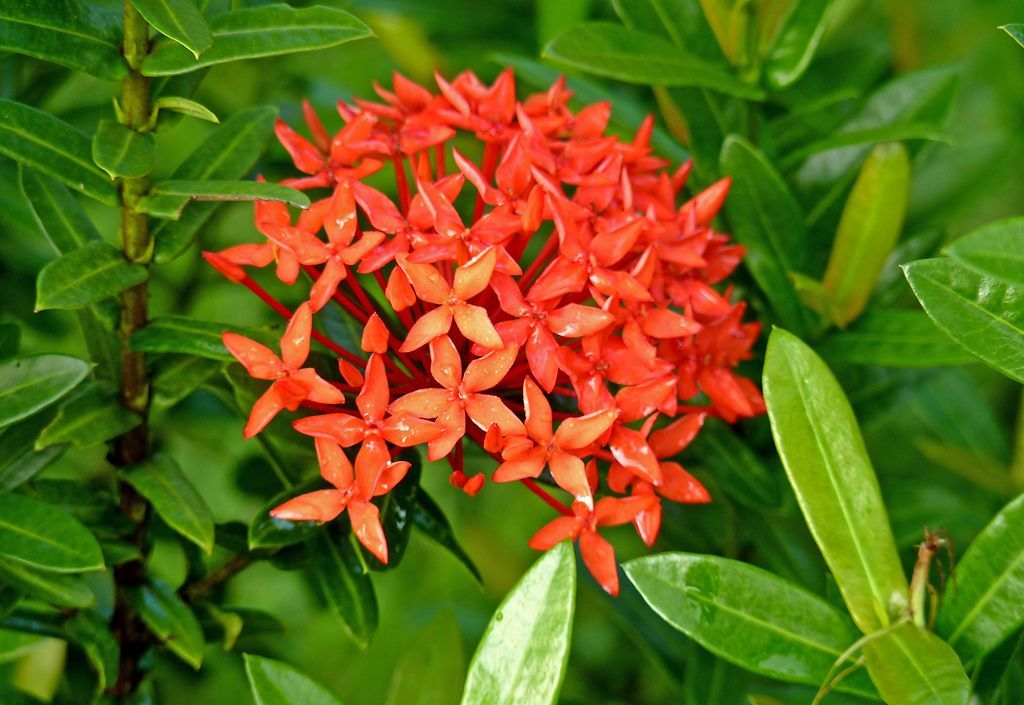ixora: (501, 384, 618, 512), (226, 309, 345, 431), (400, 344, 526, 458), (290, 449, 398, 560), (547, 484, 638, 594), (396, 256, 499, 348), (229, 181, 328, 274), (542, 225, 650, 303)
